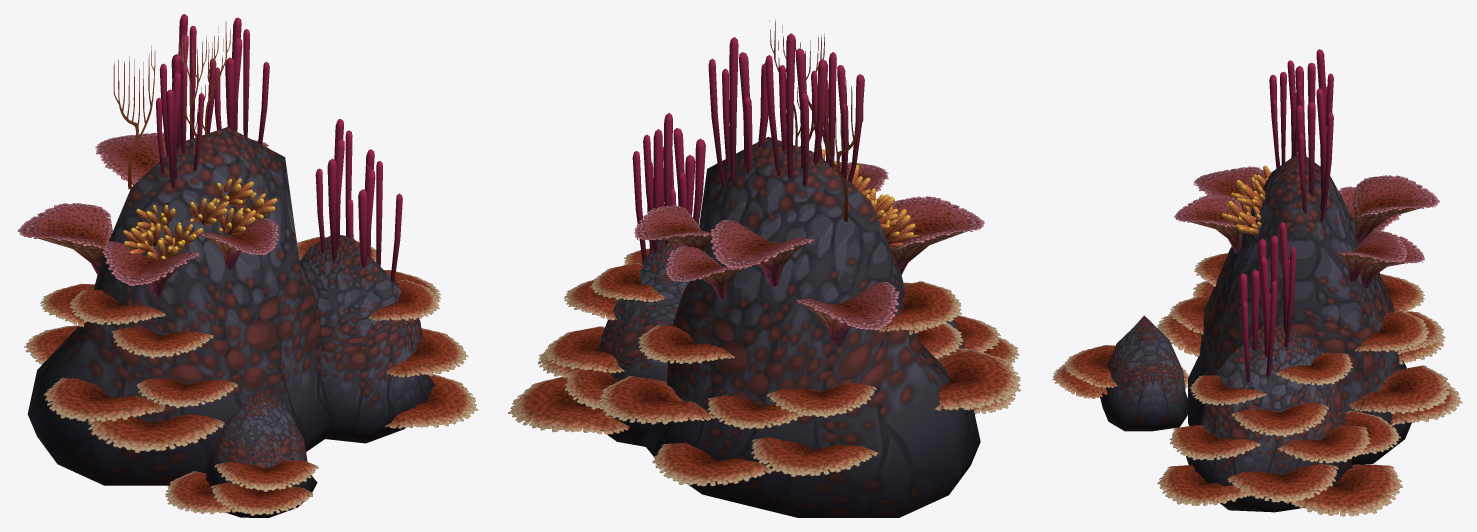
The model's file is CoralSet_11.FBX.
The picture shows the model from 3 angles, left to right: view 1: azimuth 30°, elevation 25°; view 2: azimuth 150°, elevation 25°; view 3: azimuth 270°, elevation 25°; orthographic projection. The views are drawn at different scales.
Parts seen in each view (by area): view 1: Set_11, Set_11_Part45, Set_11_Part47, Set_11_Part29, Set_11_Part44, Set_11_Part43, Set_11_Part34, Set_11_Part31, Set_11_Part27, Set_11_Part39, Set_11_Part32, Set_11_Part10 (+22 smaller); view 2: Set_11, Set_11_Part45, Set_11_Part33, Set_11_Part34, Set_11_Part43, Set_11_Part40, Set_11_Part14, Set_11_Part10, Set_11_Part24, Set_11_Part15, Set_11_Part16, Set_11_Part29 (+20 smaller); view 3: Set_11, Set_11_Part45, Set_11_Part47, Set_11_Part40, Set_11_Part24, Set_11_Part14, Set_11_Part48, Set_11_Part34, Set_11_Part31, Set_11_Part37, Set_11_Part39, Set_11_Part46 (+23 smaller).
Boxes of the visible parts, bbox=[...] form: Set_11: bbox=[27, 127, 334, 485]; Set_11_Part45: bbox=[300, 235, 435, 443]; Set_11_Part47: bbox=[206, 390, 317, 517]; Set_11_Part29: bbox=[17, 203, 112, 274]; Set_11_Part44: bbox=[87, 415, 224, 452]; Set_11_Part43: bbox=[43, 378, 165, 421]; Set_11_Part34: bbox=[214, 17, 269, 144]; Set_11_Part31: bbox=[346, 149, 402, 282]; Set_11_Part27: bbox=[315, 119, 371, 260]; Set_11_Part39: bbox=[384, 374, 477, 428]; Set_11_Part32: bbox=[156, 55, 204, 188]; Set_11_Part10: bbox=[102, 241, 199, 298]; Set_11: bbox=[641, 137, 980, 517]; Set_11_Part45: bbox=[598, 240, 689, 446]; Set_11_Part33: bbox=[765, 33, 828, 186]; Set_11_Part34: bbox=[708, 37, 768, 187]; Set_11_Part43: bbox=[934, 349, 1020, 410]; Set_11_Part40: bbox=[508, 376, 630, 434]; Set_11_Part14: bbox=[599, 376, 714, 424]; Set_11_Part10: bbox=[890, 196, 984, 274]; Set_11_Part24: bbox=[710, 219, 814, 287]; Set_11_Part15: bbox=[751, 437, 879, 476]; Set_11_Part16: bbox=[652, 443, 773, 486]; Set_11_Part29: bbox=[795, 281, 899, 346]; Set_11: bbox=[1188, 153, 1411, 464]; Set_11_Part45: bbox=[1186, 325, 1352, 512]; Set_11_Part47: bbox=[1100, 315, 1187, 431]; Set_11_Part40: bbox=[1286, 464, 1402, 516]; Set_11_Part24: bbox=[1352, 175, 1439, 244]; Set_11_Part14: bbox=[1348, 365, 1450, 414]; Set_11_Part48: bbox=[1227, 463, 1338, 503]; Set_11_Part34: bbox=[1295, 88, 1333, 222]; Set_11_Part31: bbox=[1238, 256, 1277, 382]; Set_11_Part37: bbox=[1277, 425, 1370, 463]; Set_11_Part39: bbox=[1157, 465, 1246, 505]; Set_11_Part46: bbox=[1231, 403, 1329, 437].
Bounding box in the file's own units: 106 × 98.83 × 97.87.
